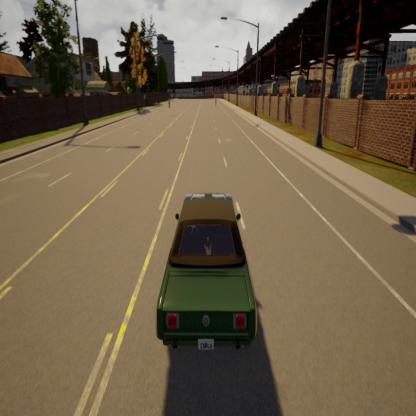Cars: (157, 192, 258, 364), (166, 93, 172, 111), (214, 92, 219, 108)
